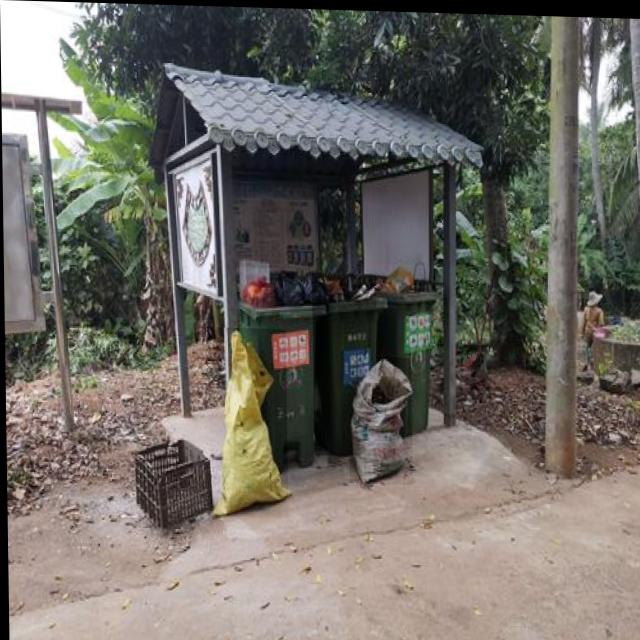garbage: (207, 326, 287, 517), (347, 354, 411, 482)
overflow: (236, 265, 325, 470), (312, 271, 388, 455), (375, 262, 437, 433)
